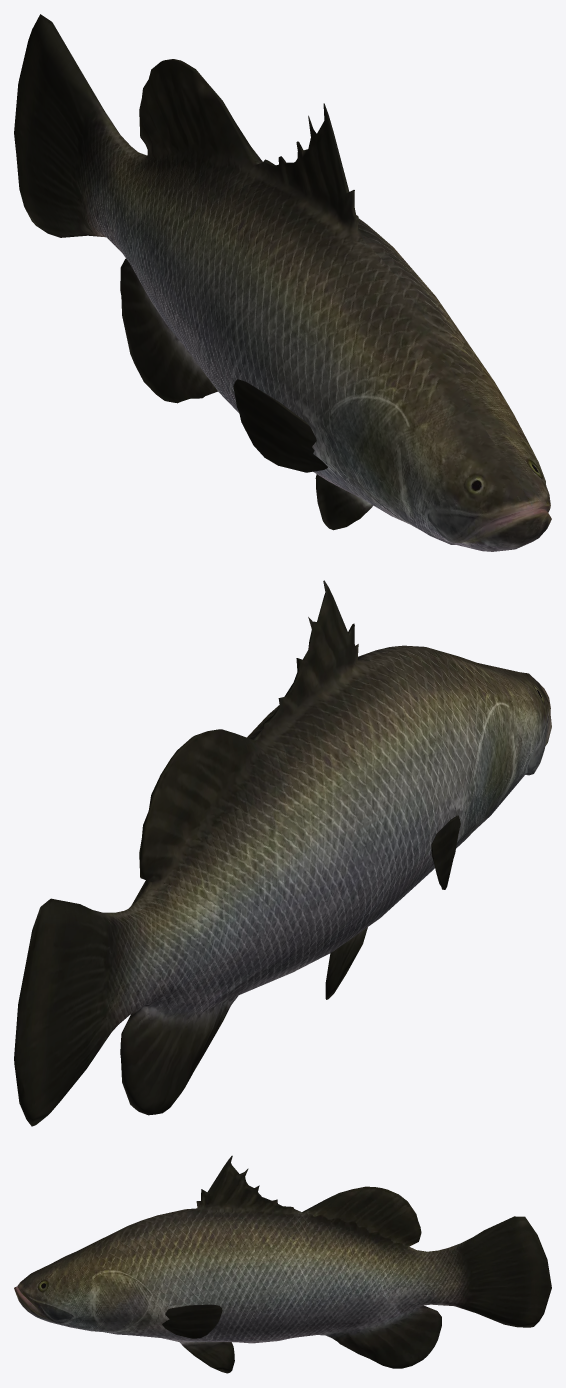
File: fisch.glb
3 renders of one model, top to bottom at view 1: azimuth 30°, elevation 25°; view 2: azimuth 150°, elevation 25°; view 3: azimuth 270°, elevation 25°, orthographic. The views are drawn at different scales.
Visible parts, largest first — view 1: BarramundiFish; view 2: BarramundiFish; view 3: BarramundiFish.
Part boxes in pixels (x1,y1,x2,y2): BarramundiFish: [14, 14, 551, 551]; BarramundiFish: [14, 580, 551, 1126]; BarramundiFish: [14, 1155, 551, 1373].
Size of the model in its own units: 0.1426 by 0.2875 by 0.6431.
1 material, 1 textured.
